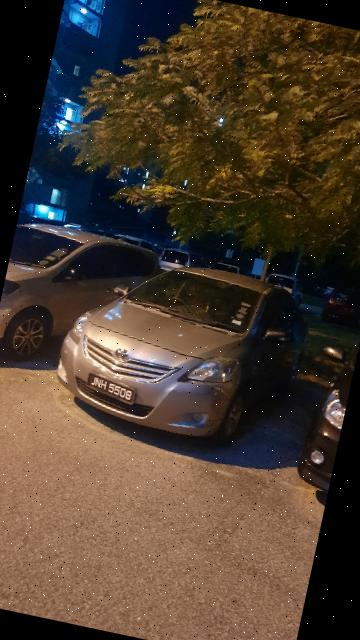License_Plate: (80, 370, 145, 412)
car: (44, 234, 332, 474), (1, 214, 174, 391)
